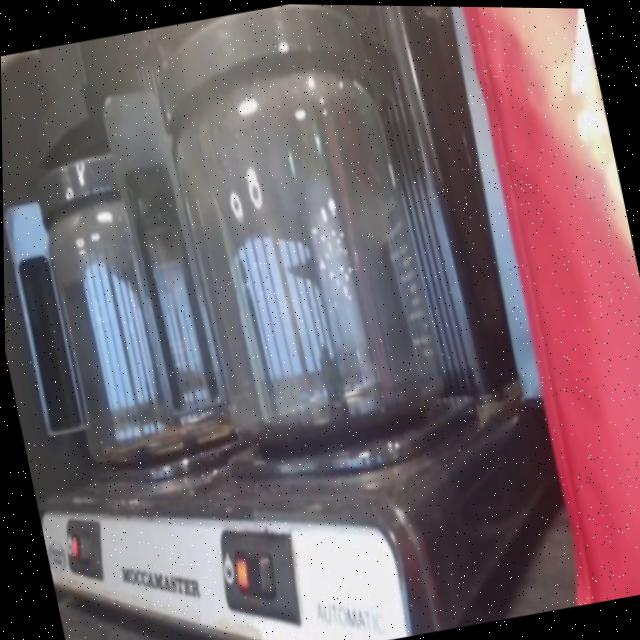nocoffee: (167, 85, 451, 461), (35, 190, 226, 478)
